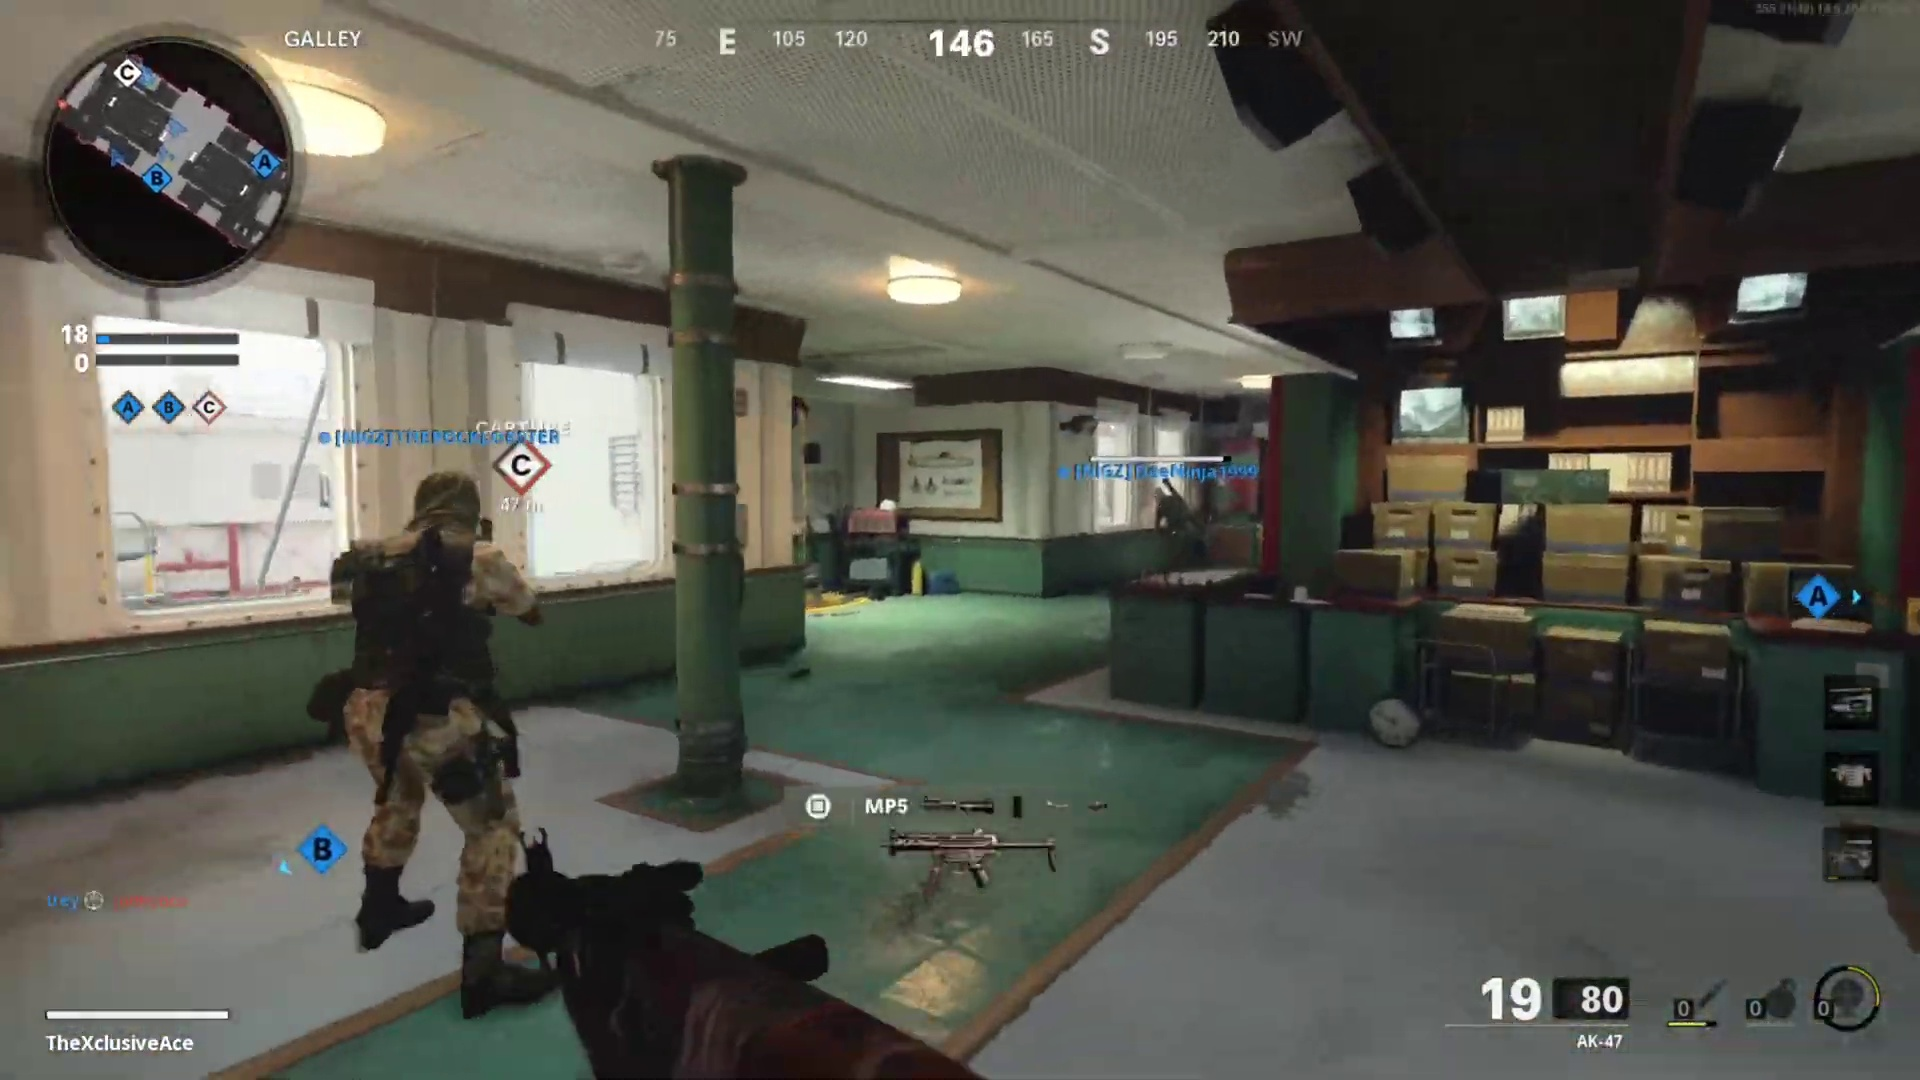head: (404, 483, 482, 545)
person: (322, 468, 552, 974), (1153, 479, 1202, 570)
